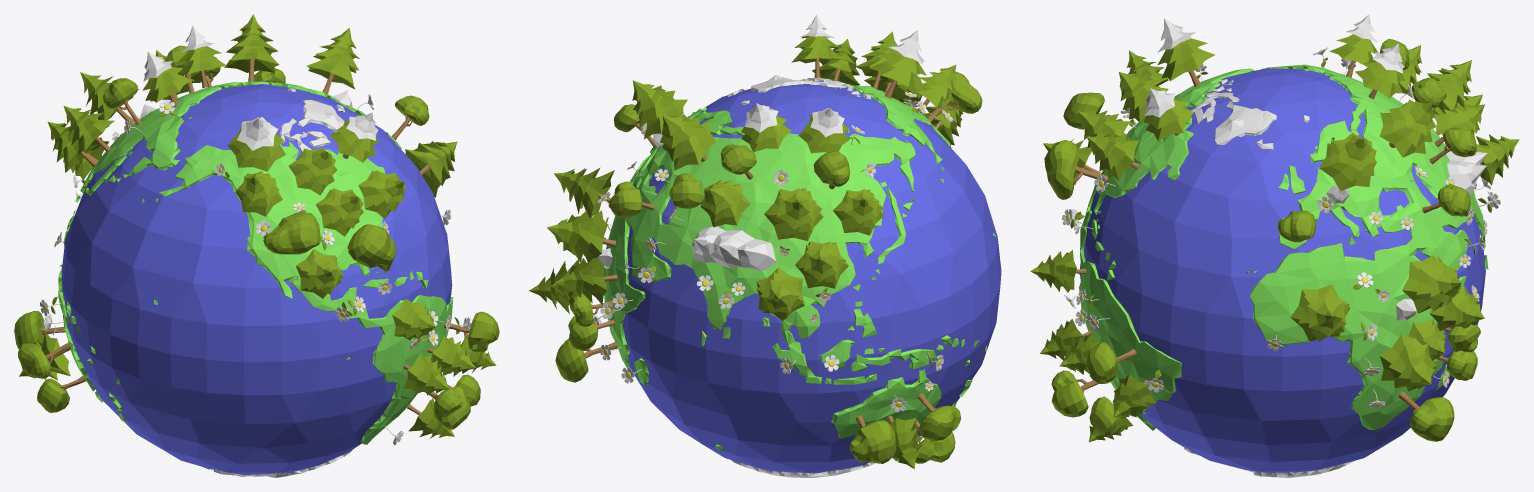
The model's file is Gg-Globe.glb.
3 views of the same model, side by side, from view 1: azimuth 30°, elevation 25°; view 2: azimuth 150°, elevation 25°; view 3: azimuth 270°, elevation 25° (orthographic). The views are drawn at different scales.
Visible parts, largest first — view 1: Sphere, Globo_Sphere.003, Cylinder.002, Cylinder.023, Cylinder.003, Cylinder.013, Cylinder.008, Cylinder.015, Cylinder.076, Cylinder.010, Cylinder.006, Cylinder.004 (+19 smaller); view 2: Sphere, Globo_Sphere.003, Cylinder.048, Cylinder.025, Cylinder.023, Cylinder.016, Cylinder.002, Cylinder.013, Cylinder.090, Cylinder.026, Cylinder.027, Cylinder.015 (+23 smaller); view 3: Sphere, Globo_Sphere.003, Cylinder.015, Cylinder.023, Cylinder.013, Cylinder.016, Cylinder.018, Cylinder.002, Cylinder.008, Cylinder.076, Cylinder.075, Cylinder.019 (+26 smaller).
Part boxes in pixels (<box>): Sphere: <box>61,84,452,475</box>; Globo_Sphere.003: <box>58,81,453,477</box>; Cylinder.002: <box>227,117,285,171</box>; Cylinder.023: <box>224,14,279,81</box>; Cylinder.003: <box>263,211,320,254</box>; Cylinder.013: <box>307,28,359,93</box>; Cylinder.008: <box>347,224,396,271</box>; Cylinder.015: <box>405,141,457,197</box>; Cylinder.076: <box>330,112,378,162</box>; Cylinder.010: <box>296,249,343,298</box>; Cylinder.006: <box>315,188,363,236</box>; Cylinder.004: <box>288,147,336,195</box>; Sphere: <box>623,80,1001,473</box>; Globo_Sphere.003: <box>604,75,996,477</box>; Cylinder.048: <box>691,226,776,271</box>; Cylinder.025: <box>764,188,823,240</box>; Cylinder.023: <box>660,114,716,170</box>; Cylinder.016: <box>547,210,615,262</box>; Cylinder.002: <box>868,30,926,98</box>; Cylinder.013: <box>632,80,687,138</box>; Cylinder.090: <box>756,267,804,320</box>; Cylinder.026: <box>795,241,848,288</box>; Cylinder.027: <box>849,415,896,463</box>; Cylinder.015: <box>554,167,614,217</box>; Sphere: <box>1080,68,1485,473</box>; Globo_Sphere.003: <box>1077,64,1488,477</box>; Cylinder.015: <box>1290,284,1350,341</box>; Cylinder.023: <box>1380,99,1436,157</box>; Cylinder.013: <box>1319,132,1376,190</box>; Cylinder.016: <box>1402,255,1461,313</box>; Cylinder.018: <box>1380,334,1436,391</box>; Cylinder.002: <box>1157,18,1214,86</box>; Cylinder.008: <box>1044,140,1107,199</box>; Cylinder.076: <box>1143,88,1193,141</box>; Cylinder.075: <box>1355,43,1405,98</box>; Cylinder.019: <box>1398,392,1454,441</box>.
Bounding box in the file's own units: 7.66 × 7.19 × 7.53.
